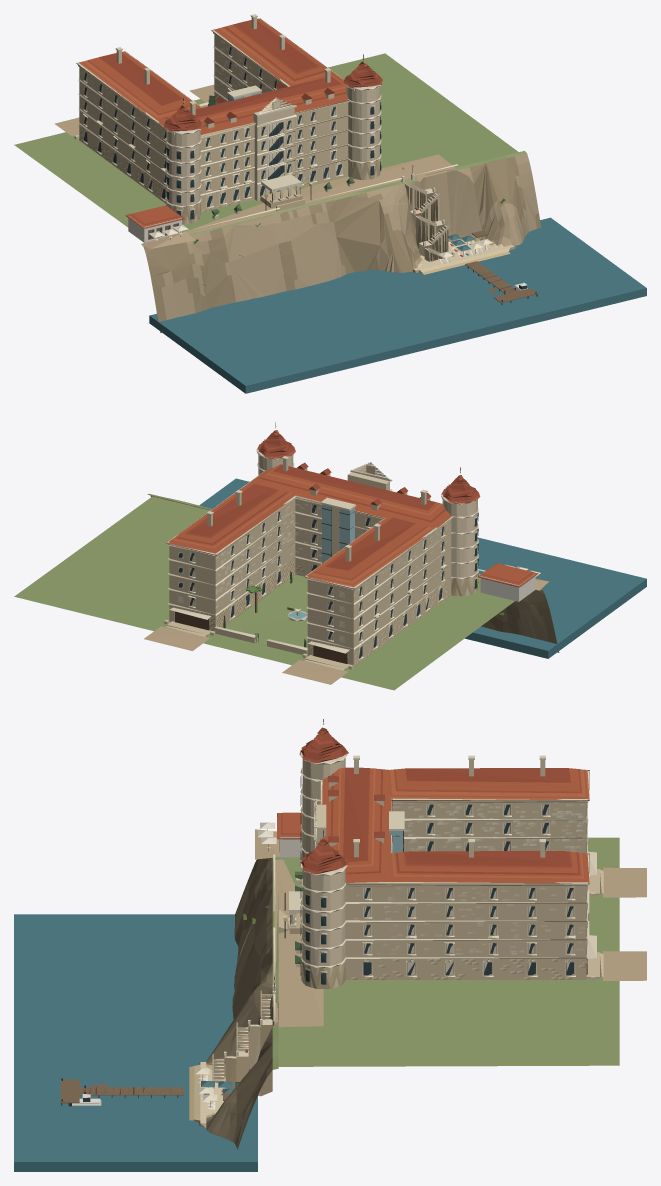
Rendered from the-imperial-kemskoy-hafif.glb.
3 views of the same model, one above another, from view 1: azimuth 30°, elevation 25°; view 2: azimuth 150°, elevation 25°; view 3: azimuth 270°, elevation 25° (orthographic). The views are drawn at different scales.
Parts seen in each view (by area): view 1: deniz, cimen, kaya, kesme2, kaya2, silme, kesme, kiremit1, kiremit4, tas3, cam, ahsap (+8 smaller); view 2: cimen, kesme2, deniz, silme, kiremit1, kiremit4, kesme, tas3, cam, kiremit3, kaya2, kule_cati (+7 smaller); view 3: deniz, cimen, kesme2, silme, kiremit1, kesme, kiremit4, tas3, kaya, kaya2, ahsap, cam (+6 smaller).
Boxes of the visible parts, <box> form: deniz: <box>149,217,646,393</box>; cimen: <box>14,53,526,246</box>; kaya: <box>161,153,538,319</box>; kesme2: <box>76,32,447,261</box>; kaya2: <box>143,156,540,332</box>; silme: <box>77,14,457,257</box>; kesme: <box>74,17,449,258</box>; kiremit1: <box>81,18,348,228</box>; kiremit4: <box>99,19,382,131</box>; tas3: <box>54,84,454,256</box>; cam: <box>84,47,526,289</box>; ahsap: <box>76,18,538,303</box>; cimen: <box>14,493,541,690</box>; kesme2: <box>166,465,451,670</box>; deniz: <box>199,478,646,658</box>; silme: <box>167,449,485,663</box>; kiremit1: <box>168,464,537,587</box>; kiremit4: <box>177,431,480,570</box>; kesme: <box>164,454,477,669</box>; tas3: <box>144,574,548,684</box>; cam: <box>178,504,478,658</box>; kiremit3: <box>173,464,442,586</box>; kaya2: <box>163,498,559,652</box>; kule_cati: <box>258,430,478,505</box>; deniz: <box>14,914,257,1171</box>; cimen: <box>272,837,619,1069</box>; kesme2: <box>213,798,603,1095</box>; silme: <box>212,749,596,1088</box>; kiremit1: <box>277,768,589,883</box>; kesme: <box>212,758,595,1080</box>; kiremit4: <box>301,731,580,874</box>; tas3: <box>224,829,646,1096</box>; kaya: <box>190,864,278,1147</box>; kaya2: <box>199,858,272,1149</box>; ahsap: <box>60,770,589,1107</box>; cam: <box>83,776,587,1101</box>.
Size of the model in its own units: 107 by 49.25 by 116.
